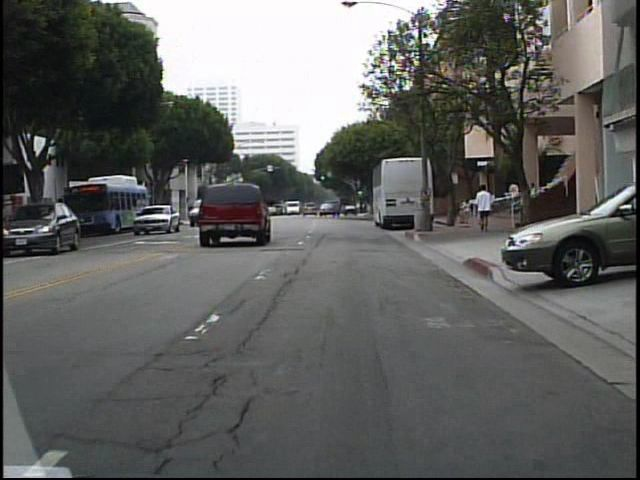person: (473, 184, 498, 238), (461, 196, 473, 225)
